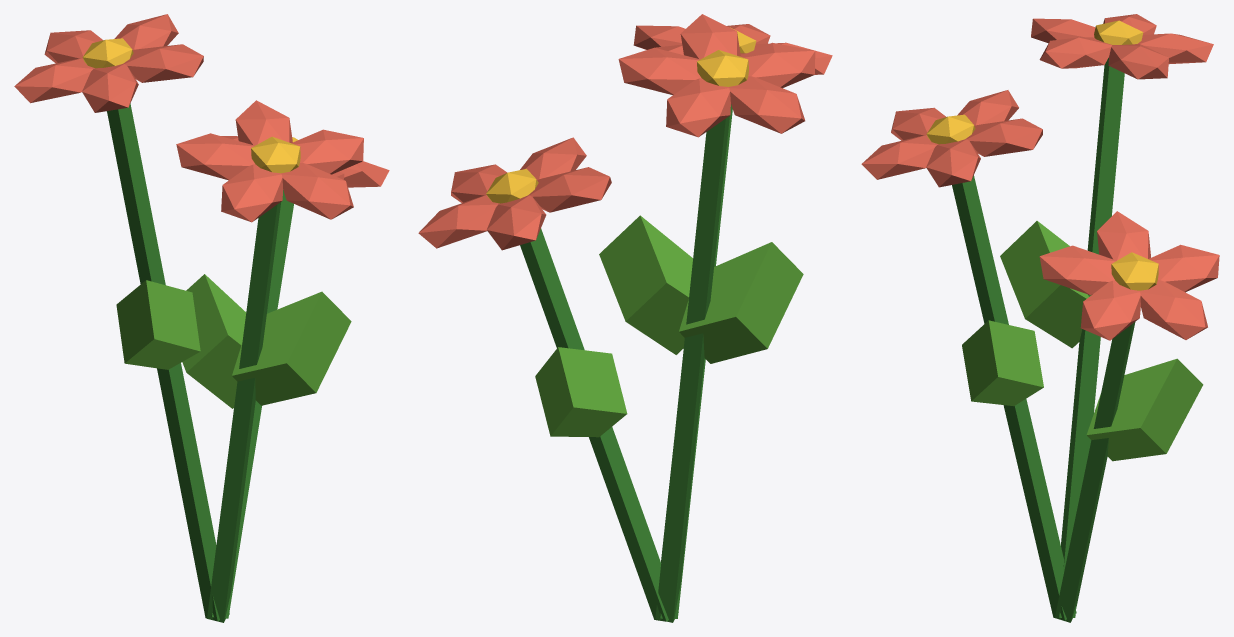
Rendered from flower_stems.glb.
3 views of the same model, side by side, from view 1: azimuth 30°, elevation 25°; view 2: azimuth 150°, elevation 25°; view 3: azimuth 270°, elevation 25° (orthographic). The views are drawn at different scales.
Parts seen in each view (by area): view 1: flower_stems; view 2: flower_stems; view 3: flower_stems.
Part boxes in pixels (x1,y1,x2,y2): flower_stems: [14, 14, 389, 622]; flower_stems: [418, 14, 832, 622]; flower_stems: [861, 14, 1219, 622].
Bounding box in the file's own units: 0.132 × 0.2071 × 0.1203.
